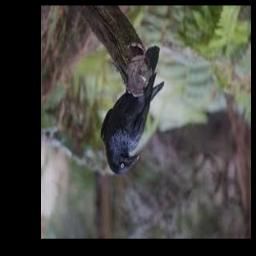Crow: (100, 73, 164, 175)
